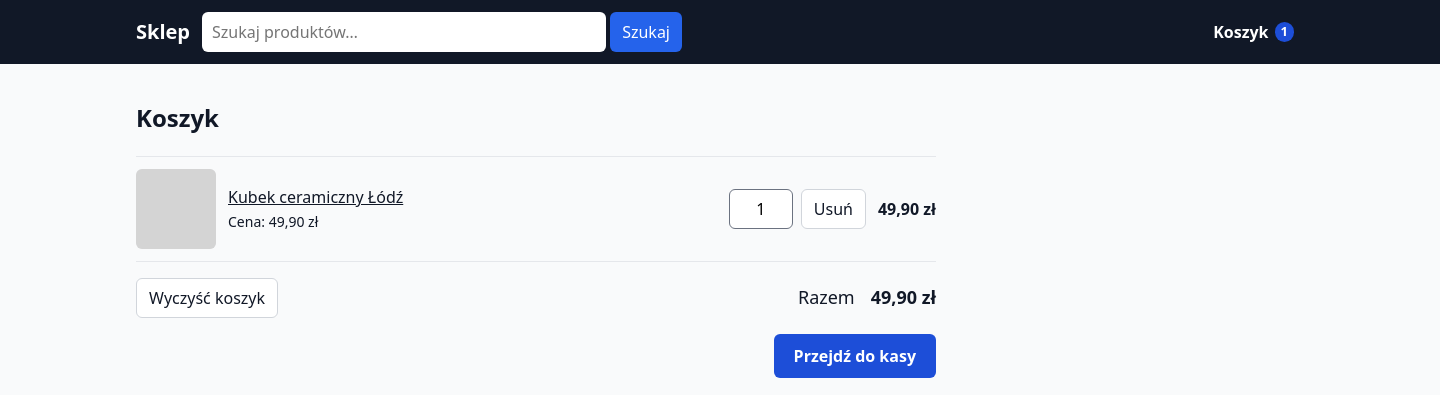
Test: cart page › changes the quantity and shows the recalculated cart
Replace the text in the field named "Liczba sztuk: Kubek ceramiczny Łódź" with "3". click: [761, 209]
box: [729,189,793,229]
Then press Enter
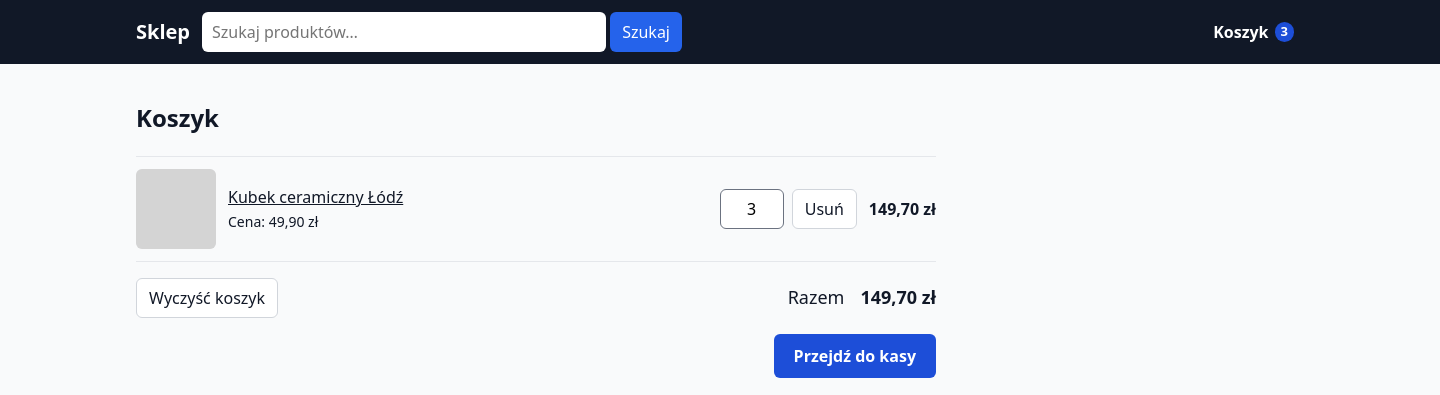
Check: the text "149,70 zł" in the row of "Kubek ceramiczny Łódź" is shown, box [869,198,936,220]
Check: the link with aria-label "Koszyk, liczba produktów: 3" is shown, box [1213,21,1294,43]
